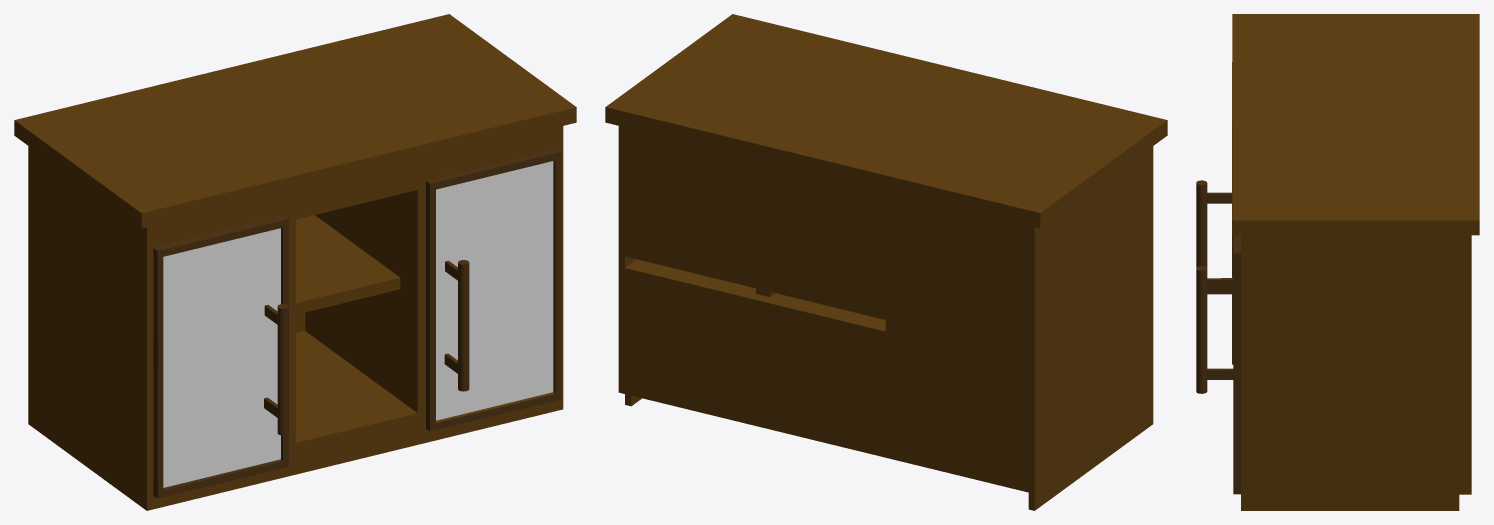
File: Kitchen_cabinet_floor.fbx
The picture shows the model from 3 angles, left to right: view 1: azimuth 30°, elevation 25°; view 2: azimuth 150°, elevation 25°; view 3: azimuth 270°, elevation 25°; orthographic projection. The views are drawn at different scales.
Parts seen in each view (by area): view 1: Armario, Cube, porta, porta_1, Agarre, Agarre.001; view 2: Armario, Cube; view 3: Armario, Cube, Agarre, porta_1, Agarre.001, porta.
Boxes of the visible parts, <box> form: Armario: <box>28,126,563,510</box>; Cube: <box>14,14,576,228</box>; porta: <box>153,216,288,498</box>; porta_1: <box>426,149,561,431</box>; Agarre: <box>444,260,469,391</box>; Agarre.001: <box>264,304,288,435</box>; Armario: <box>618,126,1153,510</box>; Cube: <box>605,14,1167,228</box>; Armario: <box>1241,235,1471,510</box>; Cube: <box>1232,14,1479,235</box>; Agarre: <box>1196,266,1233,393</box>; porta_1: <box>1233,235,1240,494</box>; Agarre.001: <box>1196,180,1231,294</box>; porta: <box>1232,62,1233,364</box>.
Size of the model in its own units: 300 by 200 by 174.
